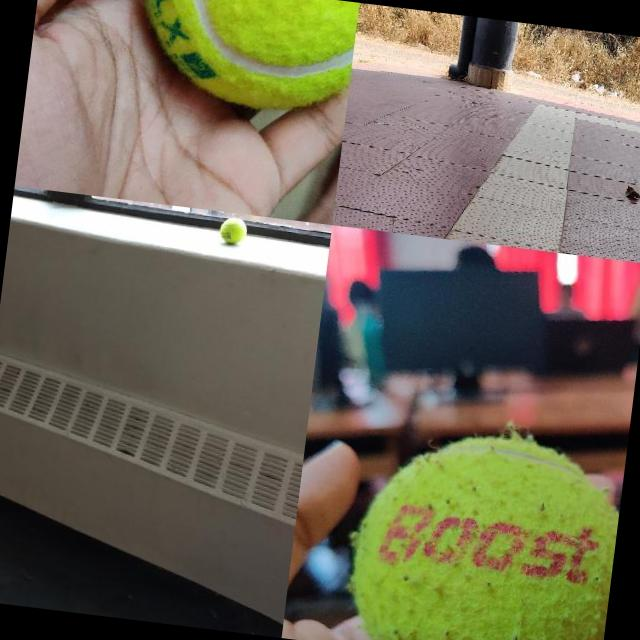Tennis Ball: (340, 419, 625, 640), (129, 0, 358, 118), (218, 214, 248, 245)
